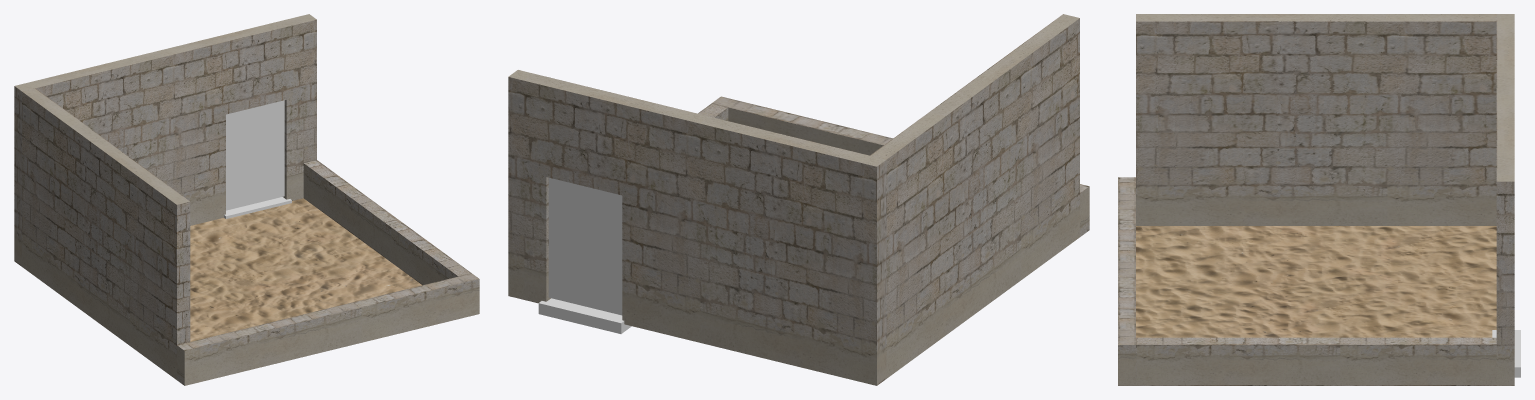
The model's file is cell04.fbx.
3 renders of one model, left to right at view 1: azimuth 30°, elevation 25°; view 2: azimuth 150°, elevation 25°; view 3: azimuth 270°, elevation 25°, orthographic. The views are drawn at different scales.
Parts seen in each view (by area): view 1: OriginalCube.004, OriginalCube.002, Plane, OriginalCube.003, OriginalCube.005, Cube.001, Cube.002; view 2: OriginalCube.004, OriginalCube.002, Cube.001, OriginalCube.003, Cube.002; view 3: OriginalCube.002, Plane, OriginalCube.005, OriginalCube.004, OriginalCube.003, Cube.002.
Boxes of the visible parts, x1=… form: OriginalCube.004: x1=14, y1=14, x2=316, y2=266; OriginalCube.002: x1=22, y1=88, x2=190, y2=379; Plane: x1=190, y1=198, x2=421, y2=341; OriginalCube.003: x1=177, y1=273, x2=479, y2=385; OriginalCube.005: x1=303, y1=160, x2=471, y2=285; Cube.001: x1=226, y1=100, x2=284, y2=210; Cube.002: x1=224, y1=197, x2=291, y2=218; OriginalCube.004: x1=508, y1=70, x2=886, y2=385; OriginalCube.002: x1=870, y1=14, x2=1079, y2=378; Cube.001: x1=548, y1=177, x2=622, y2=315; OriginalCube.003: x1=711, y1=96, x2=1089, y2=236; Cube.002: x1=538, y1=298, x2=631, y2=333; OriginalCube.002: x1=1136, y1=14, x2=1496, y2=225; Plane: x1=1136, y1=226, x2=1496, y2=337; OriginalCube.005: x1=1136, y1=337, x2=1496, y2=385; OriginalCube.004: x1=1496, y1=14, x2=1514, y2=385; OriginalCube.003: x1=1118, y1=177, x2=1135, y2=385; Cube.002: x1=1492, y1=330, x2=1520, y2=377.
Bounding box in the file's own units: 1760 × 1034 × 1787.
